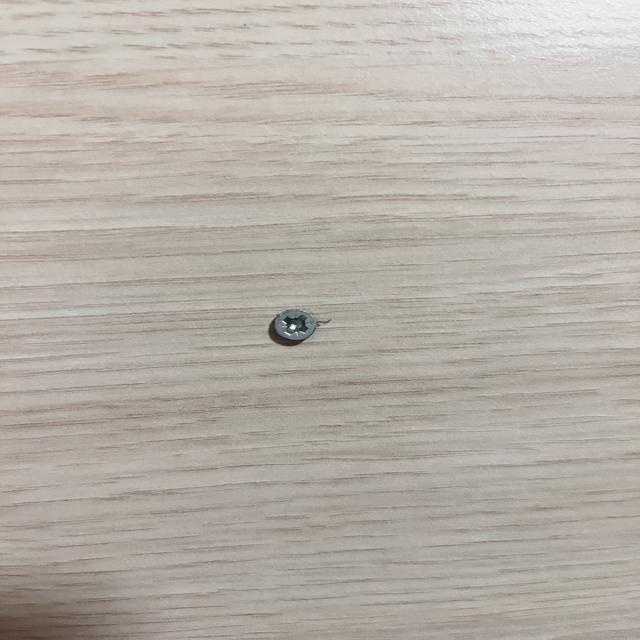pozidriv: (274, 310, 317, 342)
